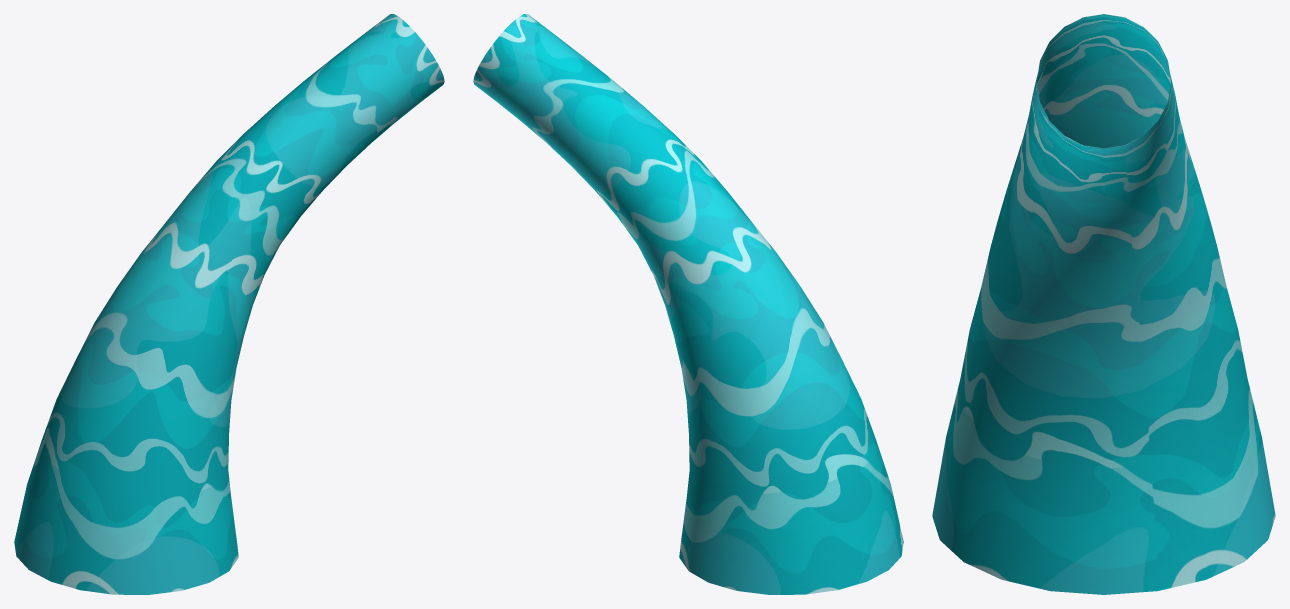
Rendered from Water_Fall_1.fbx.
3 renders of one model, left to right at view 1: azimuth 30°, elevation 25°; view 2: azimuth 150°, elevation 25°; view 3: azimuth 270°, elevation 25°, orthographic. The views are drawn at different scales.
Visible parts, largest first — view 1: pCylinder1; view 2: pCylinder1; view 3: pCylinder1.
Part boxes in pixels (<box>): pCylinder1: <box>14,14,444,594</box>; pCylinder1: <box>473,14,903,594</box>; pCylinder1: <box>932,14,1275,594</box>.
Size of the model in its own units: 2.62 by 2.89 by 1.27.
1 material, 1 textured.
